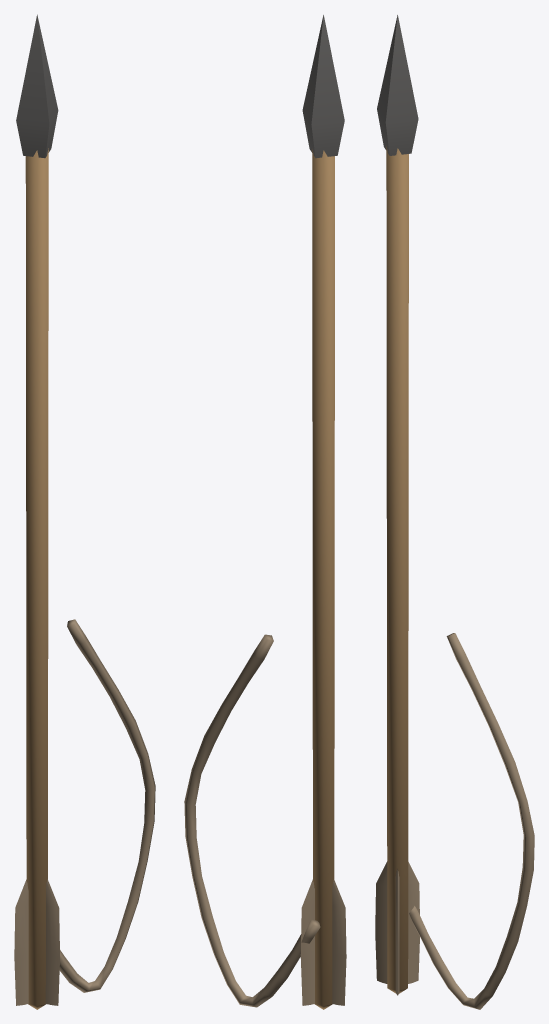
The model's file is throwing-arrow-cord.glb.
The picture shows the model from 3 angles, left to right: view 1: azimuth 30°, elevation 25°; view 2: azimuth 150°, elevation 25°; view 3: azimuth 330°, elevation 25°; orthographic projection.
Visible parts, largest first — view 1: throwing-arrow-cord; view 2: throwing-arrow-cord; view 3: throwing-arrow-cord.
Boxes of the visible parts, x1=… form: throwing-arrow-cord: x1=14, y1=14, x2=155, y2=1009; throwing-arrow-cord: x1=184, y1=15, x2=346, y2=1009; throwing-arrow-cord: x1=375, y1=15, x2=534, y2=1009.
Bounding box in the file's own units: 0.1721 × 1.09 × 0.0508.
